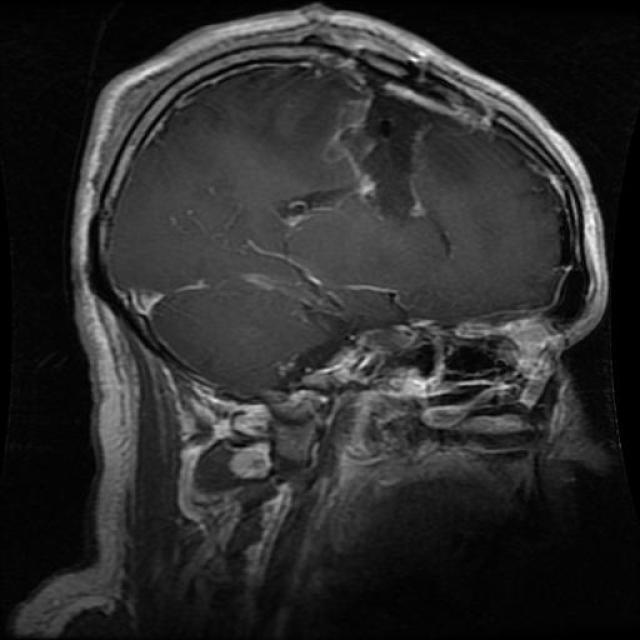glioma: (325, 75, 455, 246)
